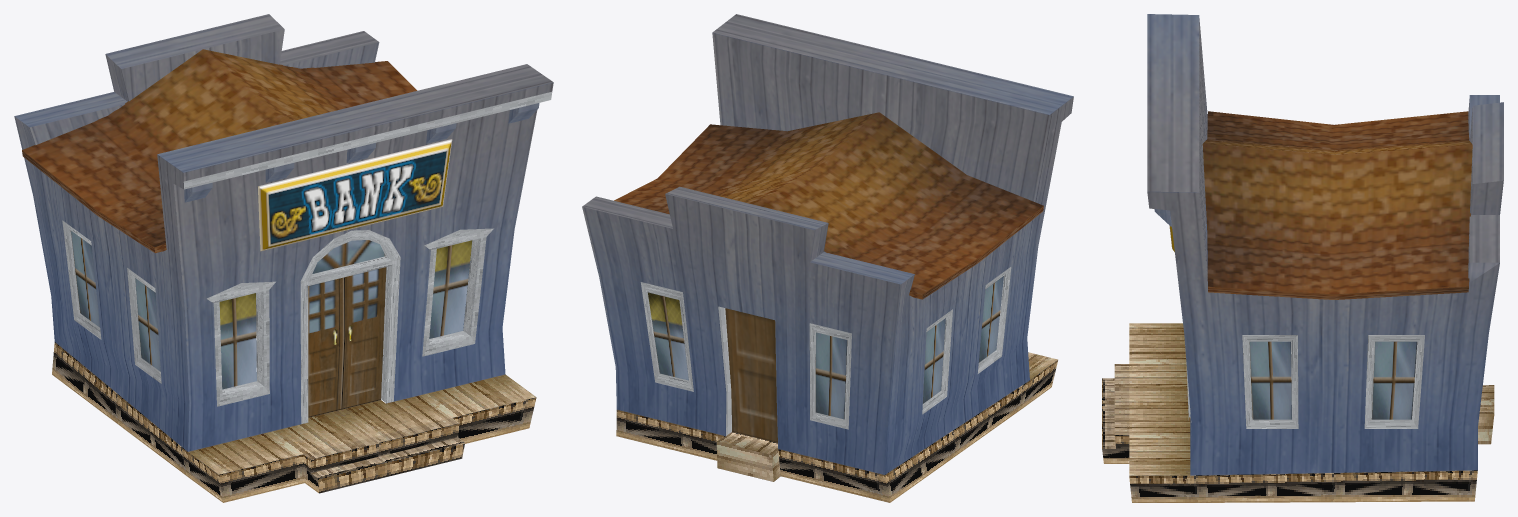
3 renders of one model, left to right at view 1: azimuth 30°, elevation 25°; view 2: azimuth 150°, elevation 25°; view 3: azimuth 270°, elevation 25°, orthographic. The views are drawn at different scales.
Visible parts, largest first — view 1: walls, roof, deck, woods, roof_sign, door, door_windows; view 2: walls, roof, deck, door_windows, woods, door_back; view 3: walls, roof, deck, door_windows, woods.
Part boxes in pixels (x1,y1,x2,y2): walls: [14, 14, 553, 451]; roof: [22, 49, 417, 253]; deck: [52, 305, 536, 502]; woods: [62, 92, 552, 423]; roof_sign: [258, 139, 452, 251]; door: [308, 240, 386, 417]; door_windows: [70, 230, 472, 389]; walls: [582, 14, 1073, 474]; roof: [614, 112, 1043, 299]; deck: [616, 352, 1057, 502]; door_windows: [648, 276, 1003, 419]; woods: [640, 267, 1011, 435]; door_back: [725, 308, 777, 442]; walls: [1147, 14, 1503, 475]; roof: [1202, 111, 1472, 299]; deck: [1102, 323, 1494, 502]; door_windows: [1249, 341, 1417, 419]; woods: [1184, 335, 1424, 428].
Bounding box in the file's own units: 434 × 372 × 415.
8 materials, 8 textured.
